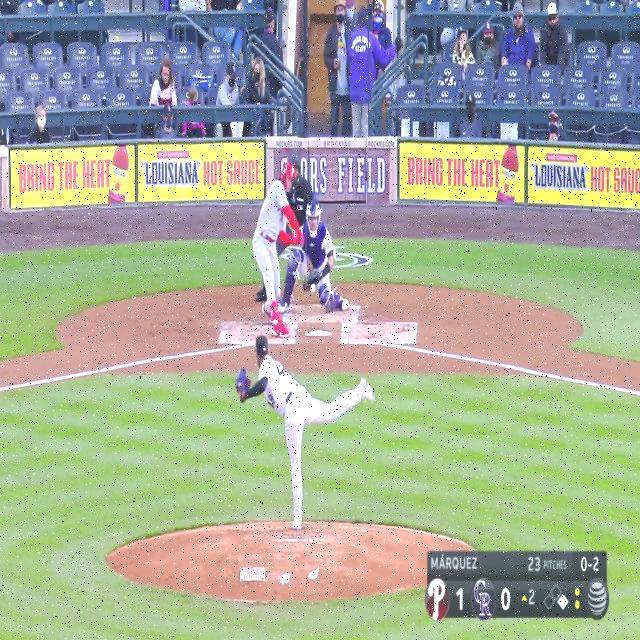baseball: (309, 282, 317, 294)
